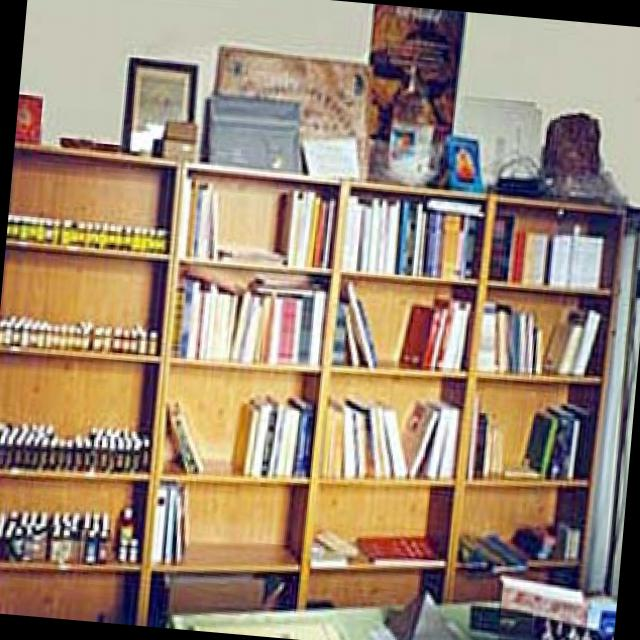book case: (355, 533, 444, 564)
bookcase crop: (0, 138, 640, 625)
books crop: (168, 273, 324, 363), (340, 193, 481, 276), (487, 210, 616, 286), (318, 393, 409, 475), (228, 391, 312, 474), (397, 291, 469, 369), (522, 399, 591, 478), (398, 397, 457, 477), (274, 187, 332, 266), (475, 303, 542, 371), (330, 279, 378, 364), (540, 305, 597, 372), (177, 174, 217, 256), (465, 391, 500, 476), (164, 397, 203, 473)
box contants: (198, 92, 298, 170)
paints: (0, 417, 143, 471), (1, 314, 154, 353)
table lamp: (163, 587, 614, 640)
wall clock: (17, 0, 640, 204)
